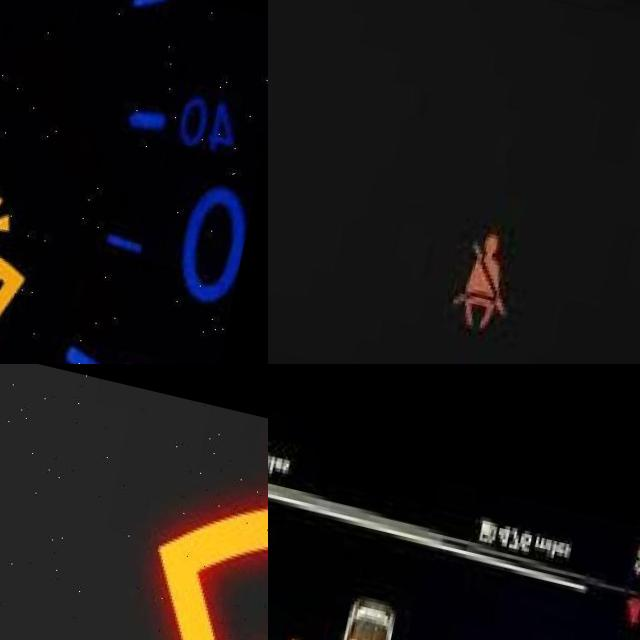Seat Belt: (469, 214, 529, 318), (293, 622, 317, 640)
Washer Fluid: (114, 389, 268, 640), (0, 153, 53, 364)
